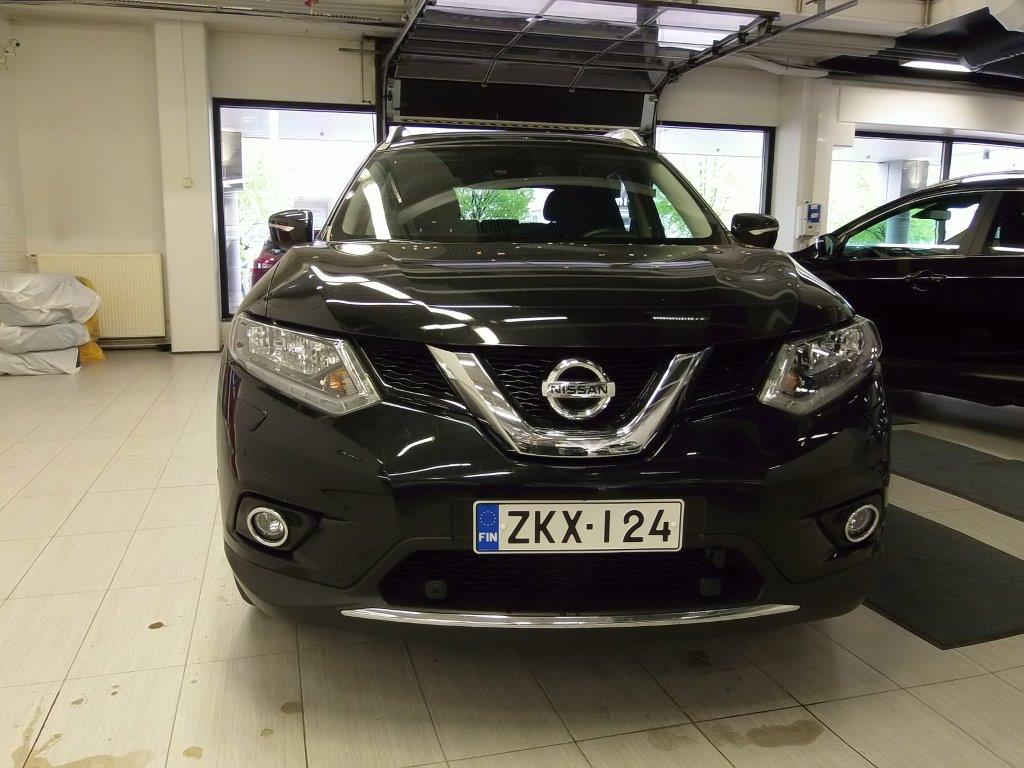license: (472, 493, 689, 555)
